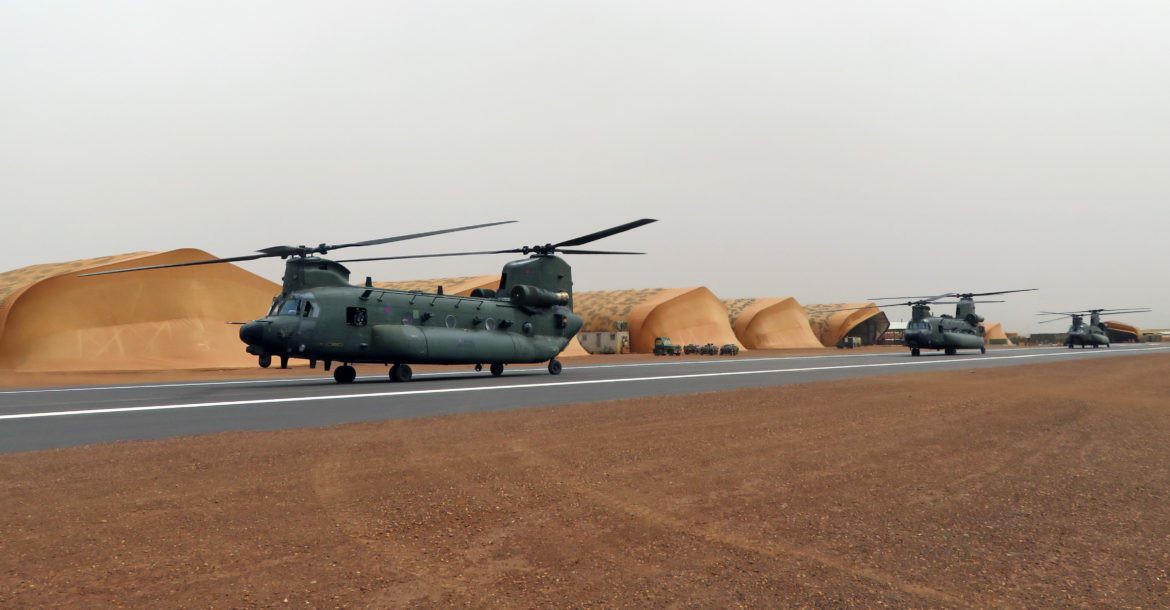chinook: (233, 231, 594, 398), (889, 288, 1005, 361), (1059, 306, 1116, 355)
